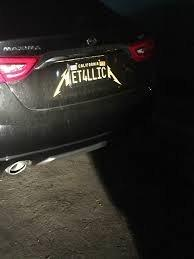Liscence Plate: (55, 62, 121, 89)
